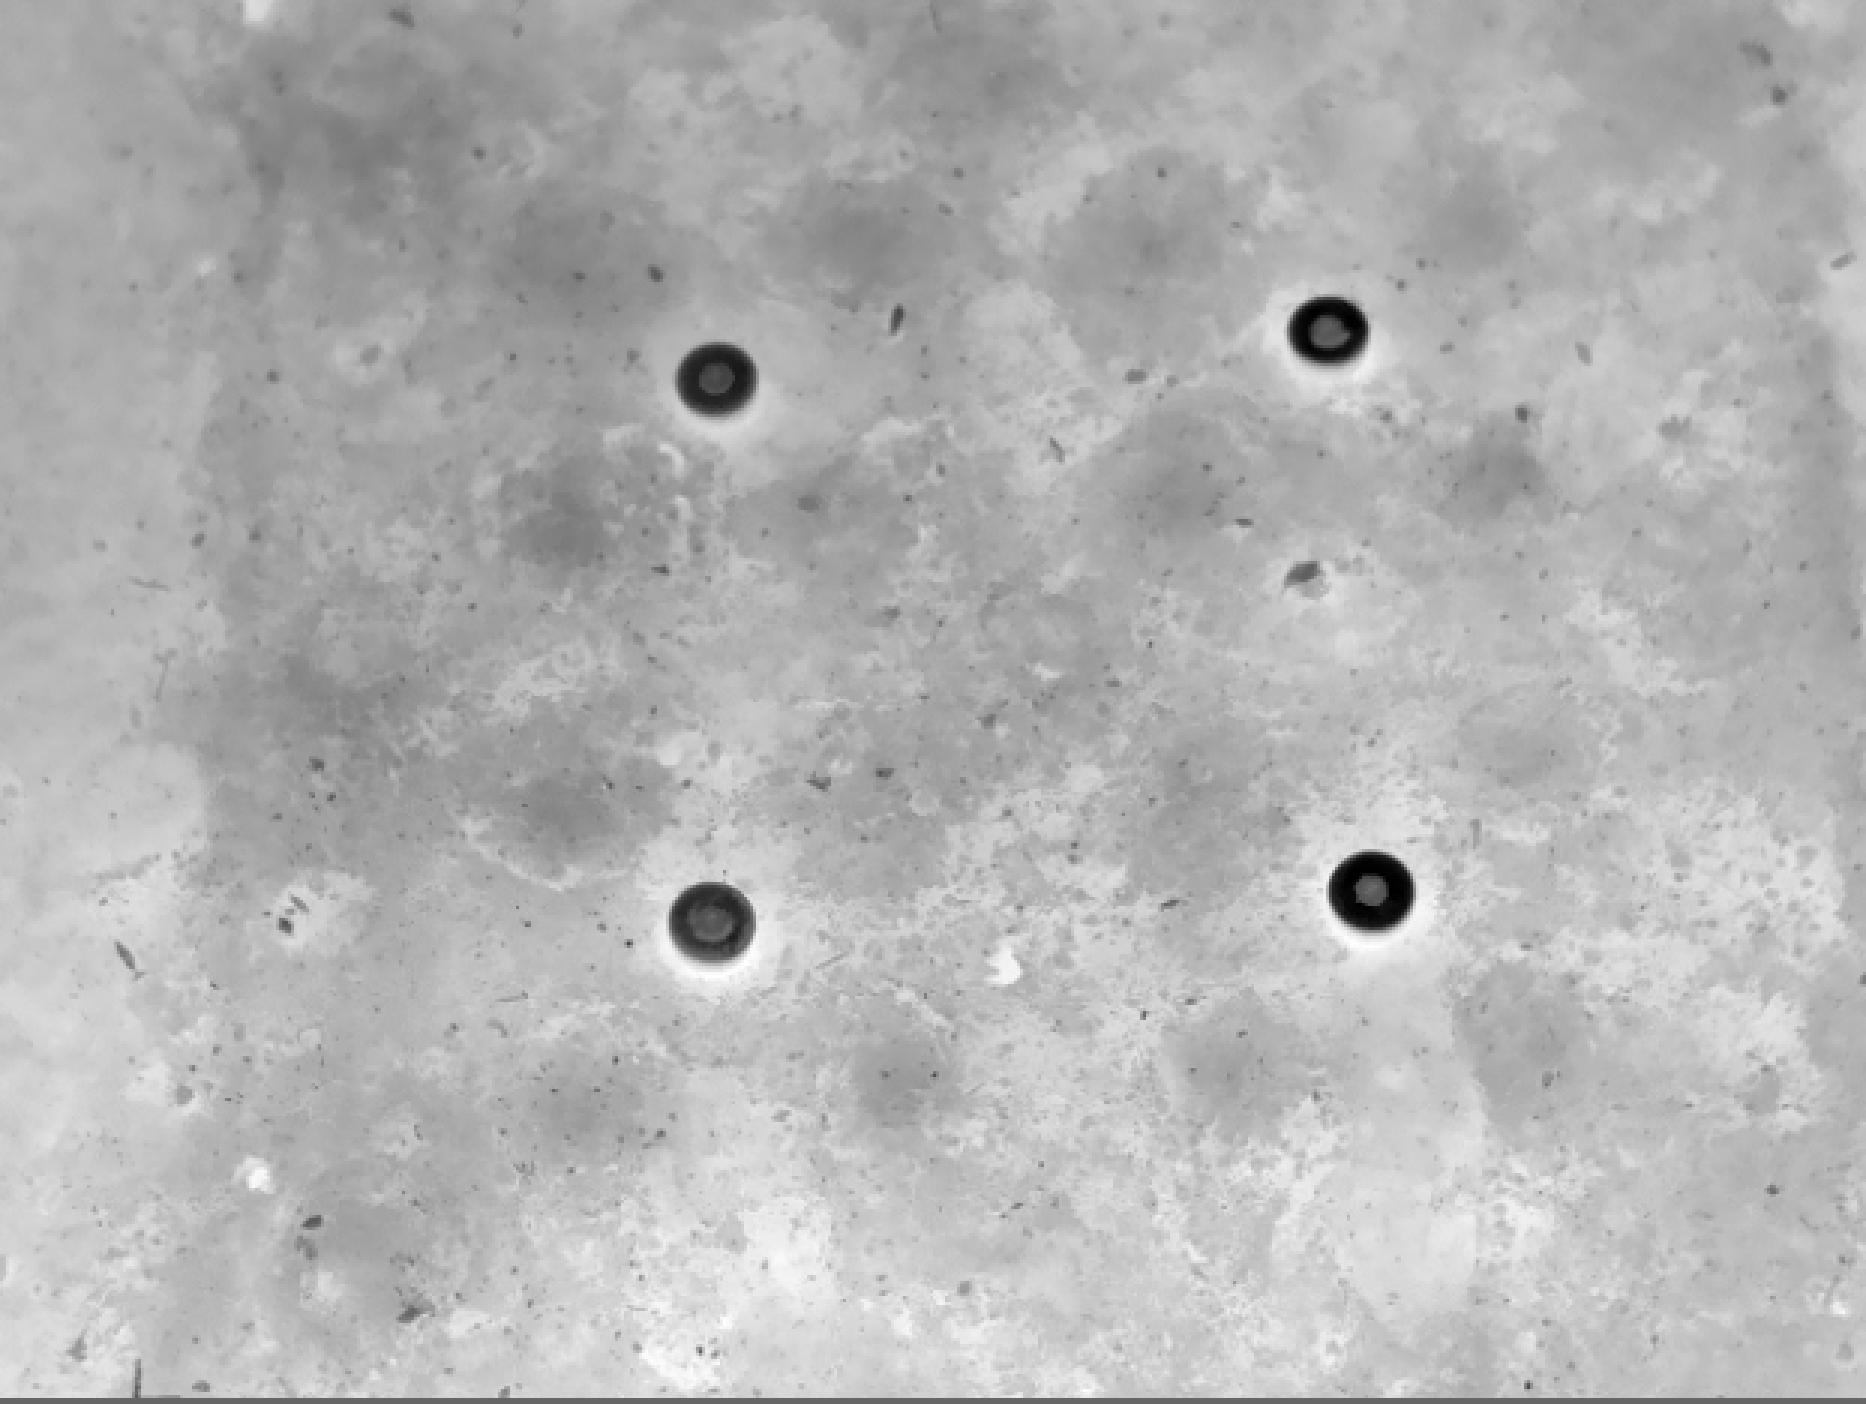mines-gjV8: (1328, 842, 1426, 953), (662, 875, 766, 973), (1277, 302, 1373, 386), (676, 338, 766, 419)
